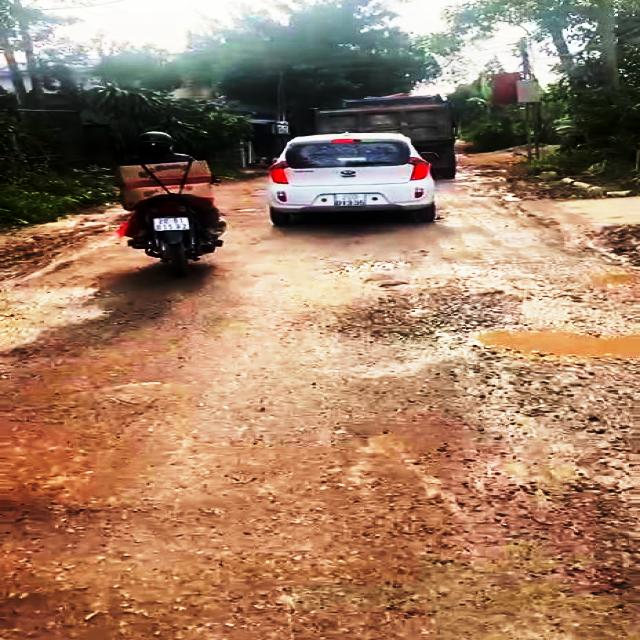pothole: (356, 284, 640, 366)
